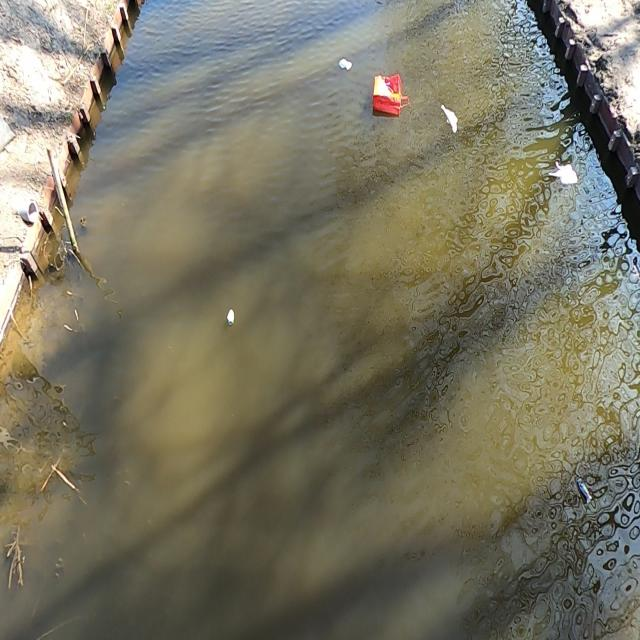Non plastique: (227, 306, 237, 328)
Sac plastique: (372, 66, 412, 124)
